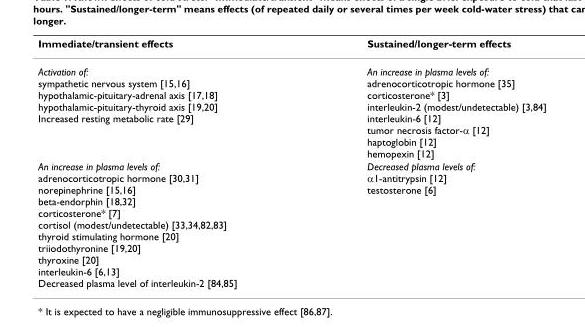table: (37, 36, 545, 288)
table column: (37, 36, 301, 288), (301, 36, 545, 288)
table column header: (37, 36, 545, 57)
table row: (37, 159, 545, 288), (37, 57, 545, 159), (37, 36, 545, 57)
